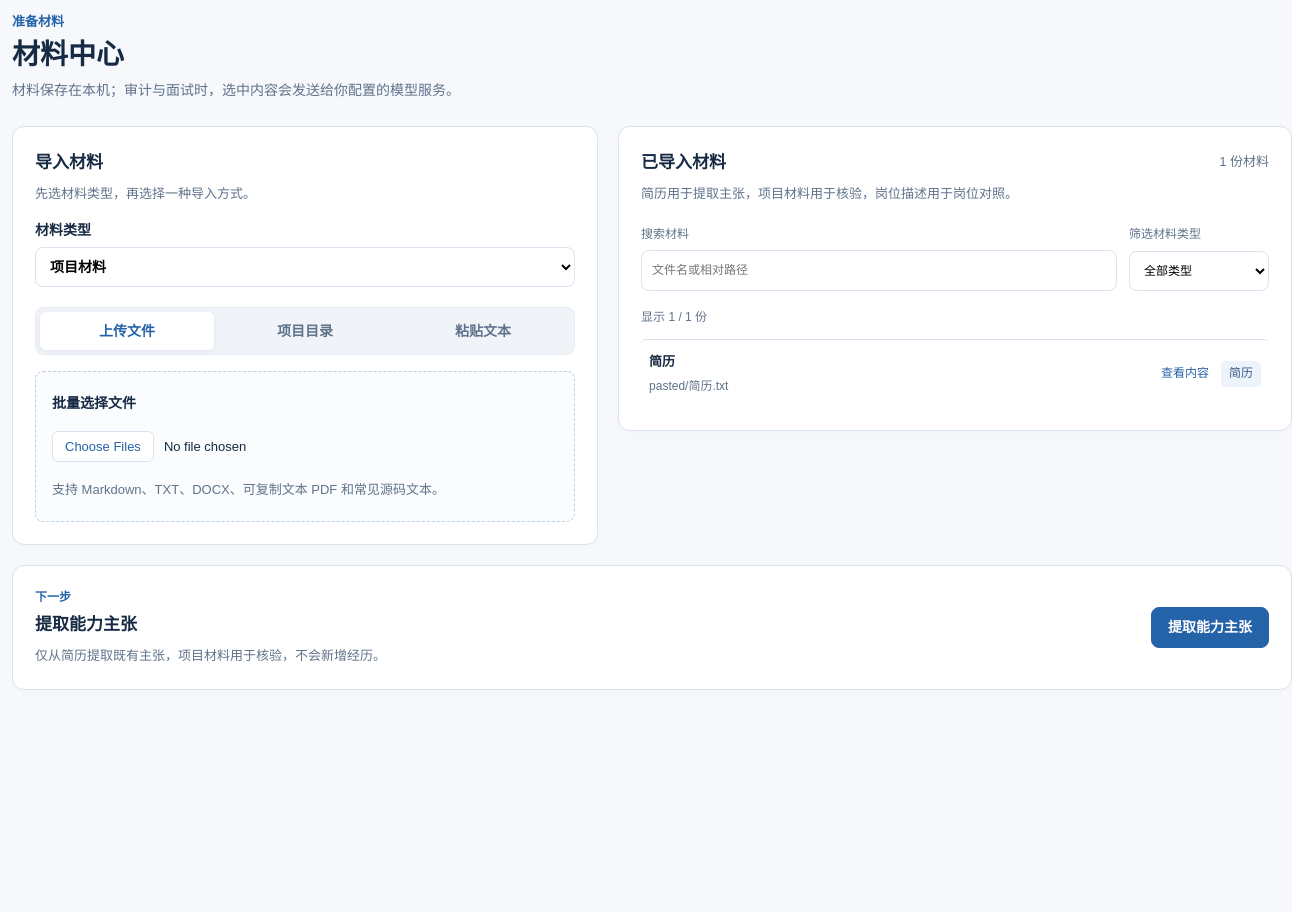
Test: 材料就绪后可以提取能力主张并刷新任务
Click the button "提取能力主张": (1210, 627) x1=1151 y1=607 x2=1269 y2=648
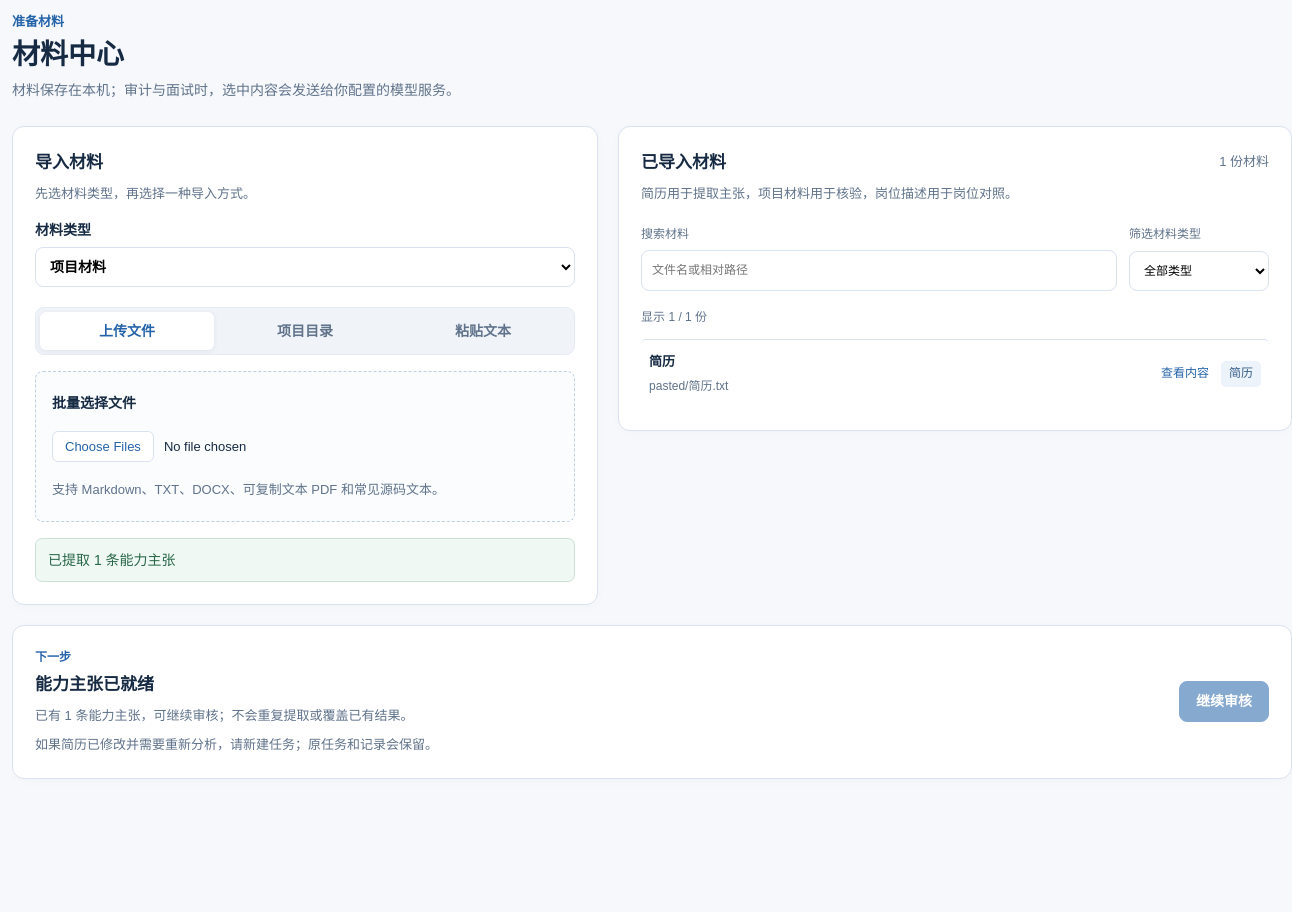
Now the text "已提取 1 条能力主张" is shown, box x1=35 y1=538 x2=575 y2=582
